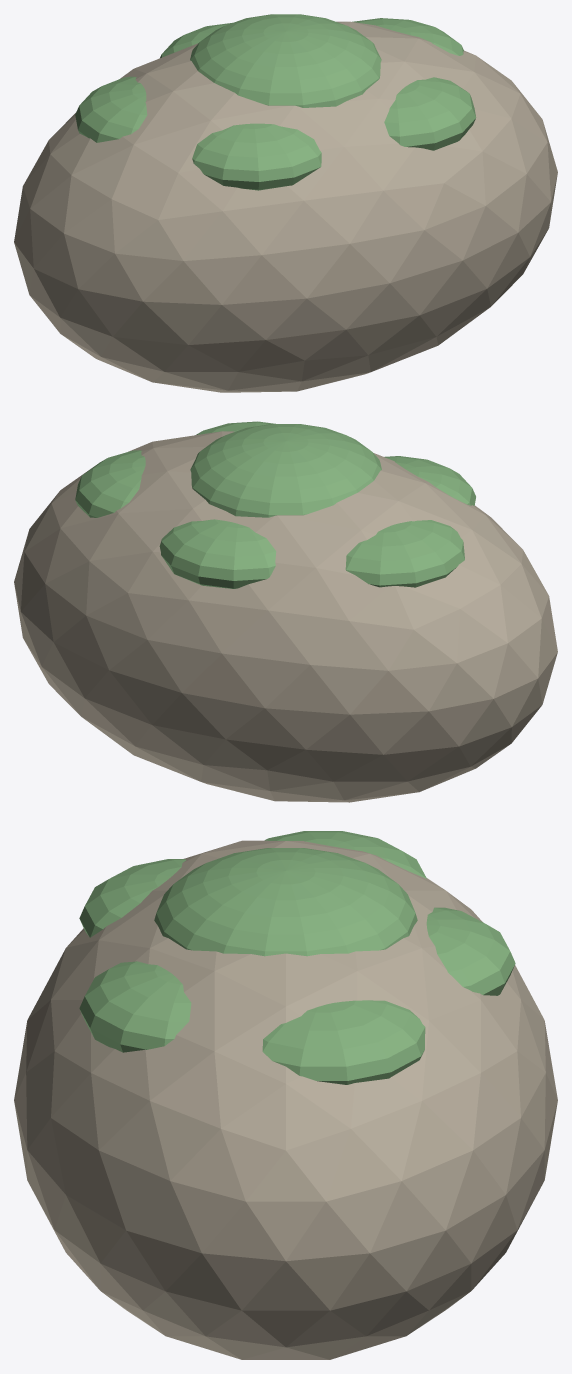
File: moss_stone.glb
3 renders of one model, top to bottom at view 1: azimuth 30°, elevation 25°; view 2: azimuth 150°, elevation 25°; view 3: azimuth 270°, elevation 25°, orthographic. The views are drawn at different scales.
Visible parts, largest first — view 1: moss_stone; view 2: moss_stone; view 3: moss_stone.
Boxes of the visible parts, x1=… form: moss_stone: x1=14, y1=14, x2=557, y2=392; moss_stone: x1=14, y1=421, x2=557, y2=802; moss_stone: x1=14, y1=831, x2=557, y2=1359.
Size of the model in its own units: 1.26 by 0.8015 by 0.9.
